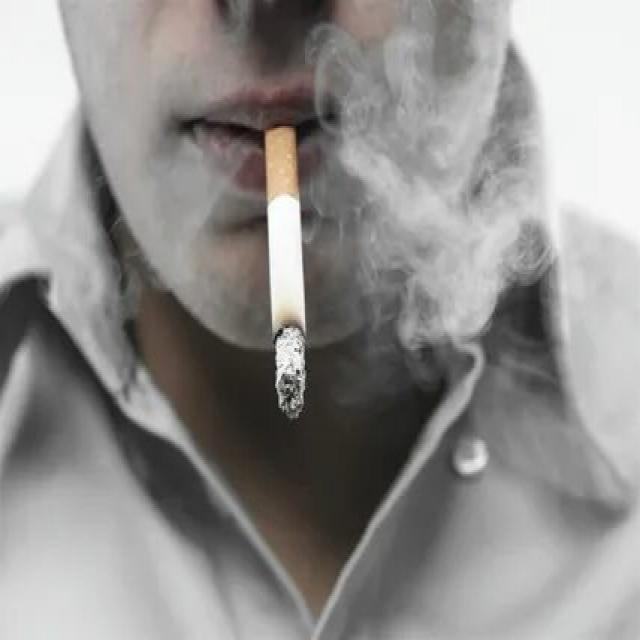smoke: (258, 122, 312, 420)
